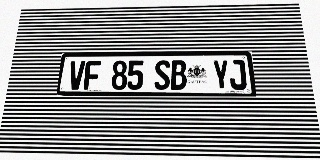5: (127, 60, 144, 90)
8: (111, 60, 128, 90)
B: (171, 60, 187, 90)
F: (83, 61, 101, 90)
J: (228, 60, 247, 90)
S: (154, 60, 170, 90)
V: (68, 61, 85, 90)
Y: (212, 60, 230, 90)
